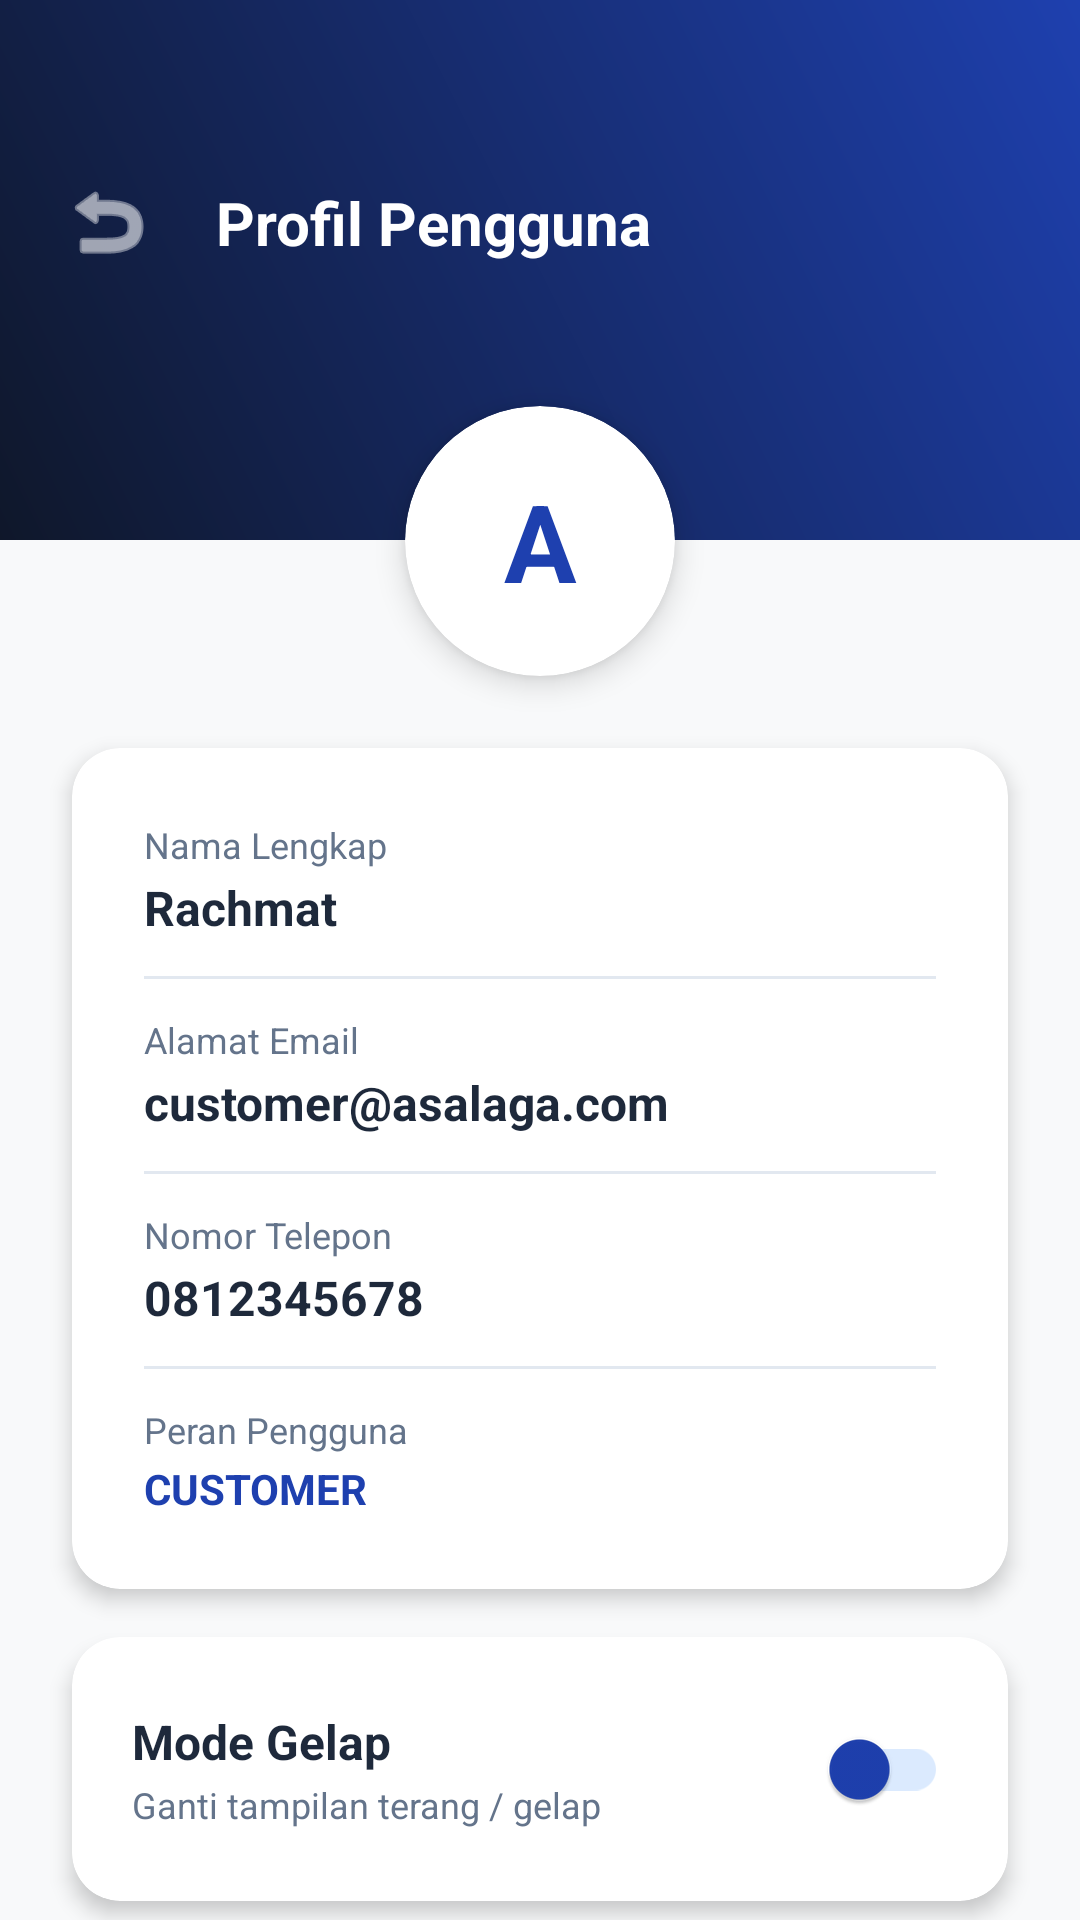

Named icons in this screenshot (1080x1920) and their bounding boxes, Rect(x1, y1, x2, y2):
Kembali: Rect(75, 191, 144, 254)
